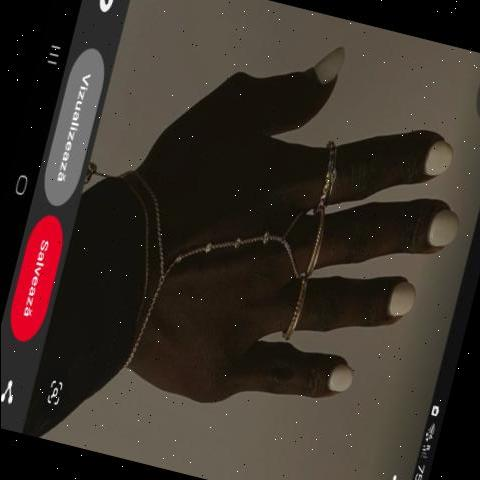Hands: (115, 46, 480, 461)
